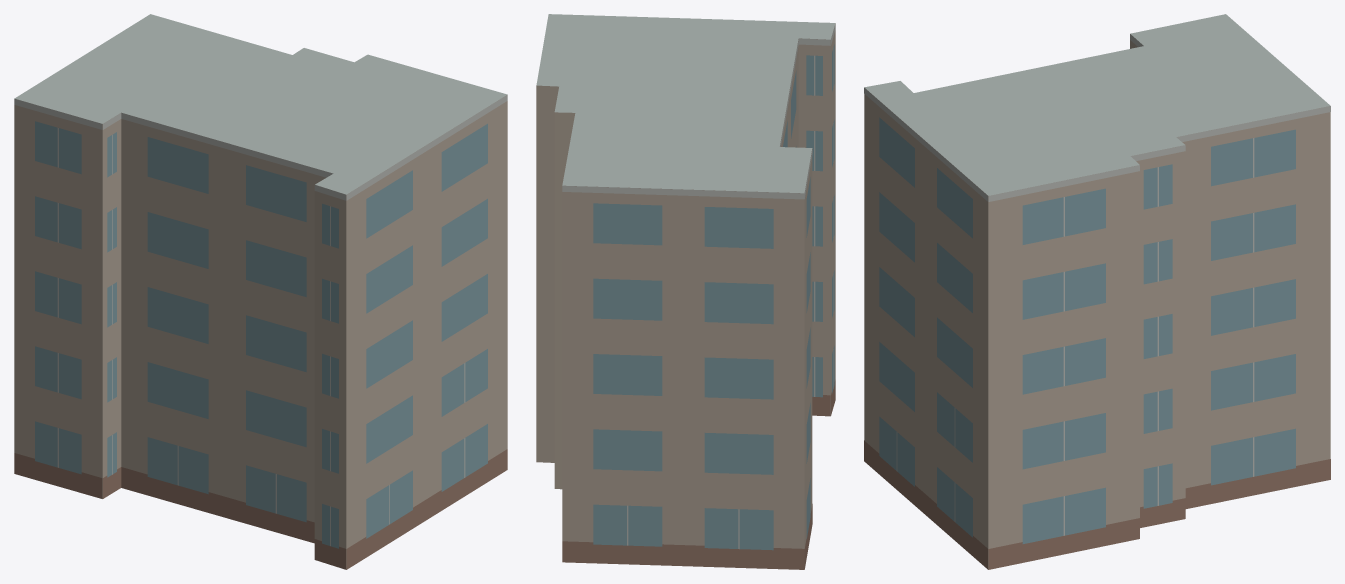
The model's file is survey-upis-32759376.glb.
The picture shows the model from 3 angles, left to right: view 1: azimuth 30°, elevation 25°; view 2: azimuth 150°, elevation 25°; view 3: azimuth 270°, elevation 25°; orthographic projection.
Parts seen in each view (by area): view 1: survey-upis-32759376.tmp; view 2: survey-upis-32759376.tmp; view 3: survey-upis-32759376.tmp.
Boxes of the visible parts, x1=… form: survey-upis-32759376.tmp: x1=14, y1=14, x2=507, y2=569; survey-upis-32759376.tmp: x1=536, y1=14, x2=835, y2=569; survey-upis-32759376.tmp: x1=864, y1=14, x2=1330, y2=569.
Size of the model in its own units: 15.46 by 14.8 by 16.75.
